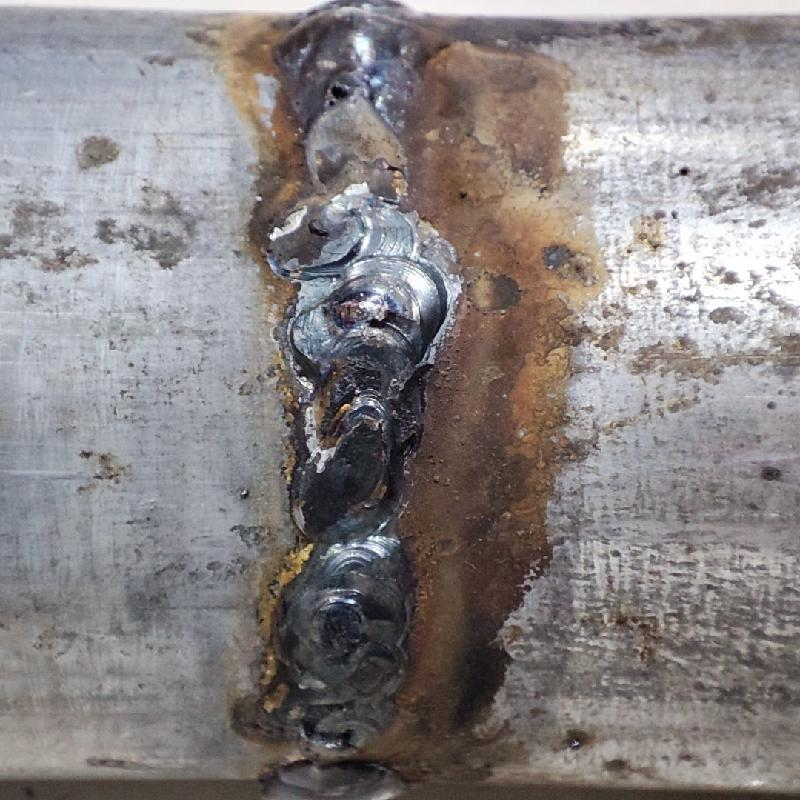Not_fully_soldered: (283, 80, 436, 258)
Surface_pores: (318, 70, 368, 116)
Weld: (255, 3, 433, 102)
wrong_size: (270, 260, 437, 697)
